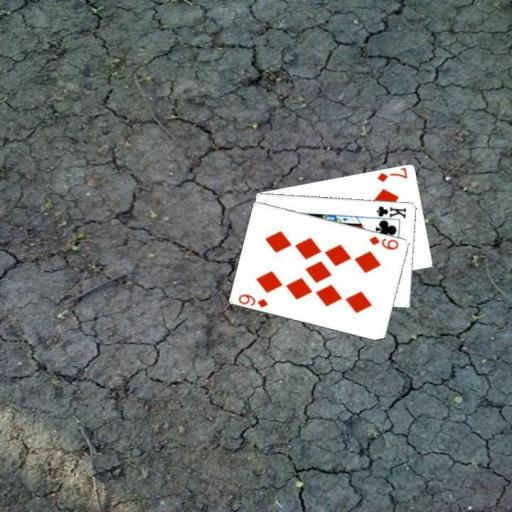7D: (374, 166, 409, 183)
9D: (367, 233, 401, 251), (236, 291, 270, 309)
KC: (371, 203, 408, 222)
